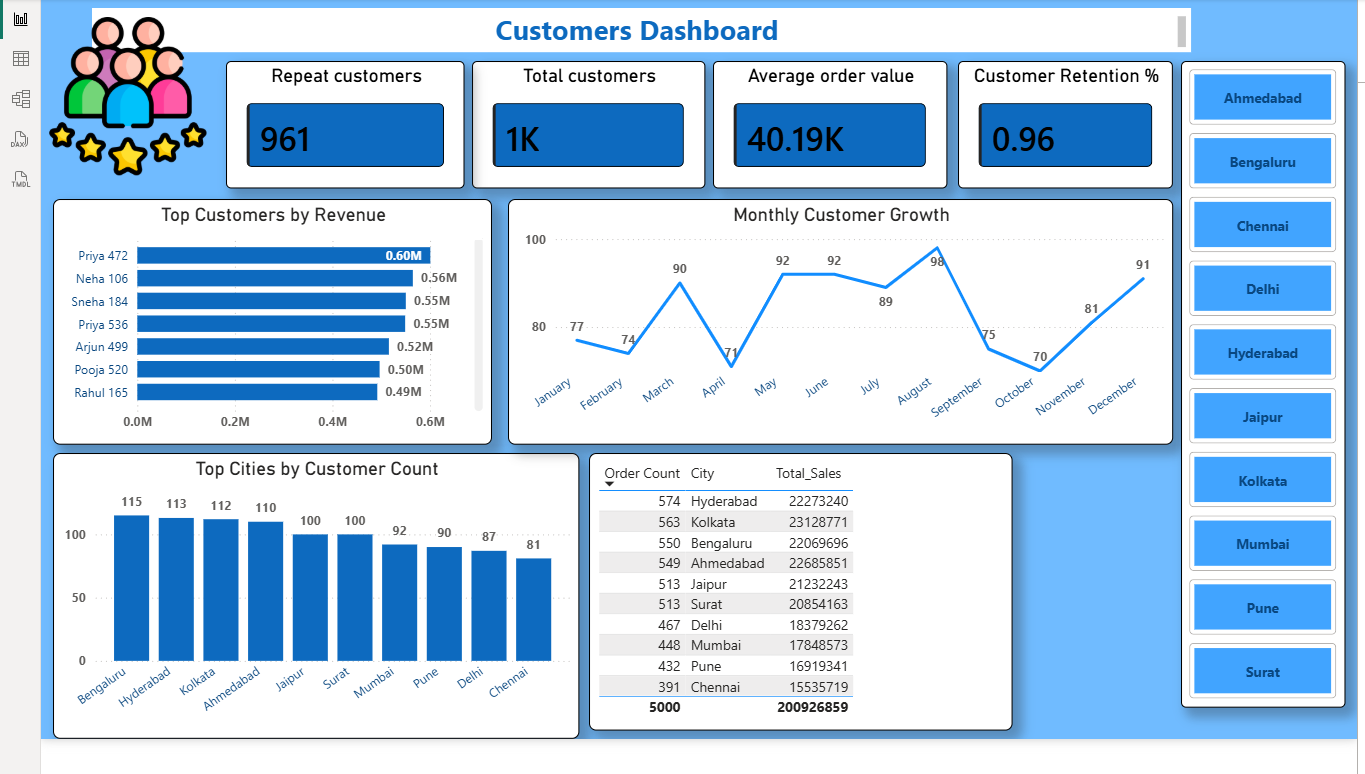

The page's visual inventory and layout, read from the dashboard file:
{"tool":"powerbi","page":{"name":"Customer Insights","canvas":[1280,720],"ordinal":2},"visuals":[{"type":"textbox","box":[49.6,8.8,1068.9,42.8],"z":0},{"type":"cardVisual","title":"Total customers","fields":{"Data":["Customers.Customers"]},"box":[419.2,60.3,226.6,123.5],"z":1000},{"type":"cardVisual","title":"Average order value","fields":{"Data":["Orders.Average Order V"]},"box":[653.6,60.3,227.6,123.5],"z":2000},{"type":"cardVisual","title":"Repeat customers","fields":{"Data":["Customers.Repeat Customers"]},"box":[179.9,60.3,232.5,123.5],"z":3000},{"type":"clusteredBarChart","title":"Top Customers by Revenue","fields":{"Category":["Customers.Customer_Name"],"Y":["Sum(Orders.Total_Amount)"]},"box":[11.7,194.5,427,239.3],"z":4000},{"type":"clusteredColumnChart","title":"Top Cities by Customer Count","fields":{"Category":["Customers.City"],"Y":["Customers.Customers"]},"box":[11.7,441.6,511.6,278.2],"z":5000},{"type":"cardVisual","title":"Customer Retention %","fields":{"Data":["Customers.Customer Retention %"]},"box":[891.9,60.3,209.1,123.5],"z":7002},{"type":"lineChart","title":"Monthly Customer Growth","fields":{"Category":["Customers.Signup_Date.Variation.Date Hierarchy.Month"],"Y":["Customers.Total_Customers"]},"box":[454.2,194.5,646.8,239.3],"z":7003},{"type":"advancedSlicerVisual","fields":{"Values":["Customers.City"]},"box":[1108.8,60.3,159.5,629.3],"z":7004},{"type":"image","box":[0,17.5,169.2,153.7],"z":7005},{"type":"tableEx","fields":{"Values":["Customers.Order Count","Customers.City","Orders.Total_Sales"]},"box":[533,441.6,412.4,270.4],"z":7006}]}

Visuals, with their boxes on the page's 1280x720 design canvas (x1, y1, x2, y2). These are canvas units, not pixel positions in the 1365x774 screenshot, which may show the page scaled, cropped or inside an application window:
textbox: {"x1": 50, "y1": 9, "x2": 1118, "y2": 52}
"Total customers" cardVisual: {"x1": 419, "y1": 60, "x2": 646, "y2": 184}
"Average order value" cardVisual: {"x1": 654, "y1": 60, "x2": 881, "y2": 184}
"Repeat customers" cardVisual: {"x1": 180, "y1": 60, "x2": 412, "y2": 184}
"Top Customers by Revenue" clusteredBarChart: {"x1": 12, "y1": 194, "x2": 439, "y2": 434}
"Top Cities by Customer Count" clusteredColumnChart: {"x1": 12, "y1": 442, "x2": 523, "y2": 720}
"Customer Retention %" cardVisual: {"x1": 892, "y1": 60, "x2": 1101, "y2": 184}
"Monthly Customer Growth" lineChart: {"x1": 454, "y1": 194, "x2": 1101, "y2": 434}
advancedSlicerVisual - Customers.City: {"x1": 1109, "y1": 60, "x2": 1268, "y2": 690}
image: {"x1": 0, "y1": 18, "x2": 169, "y2": 171}
tableEx - Customers.Order Count x Customers.City: {"x1": 533, "y1": 442, "x2": 945, "y2": 712}
